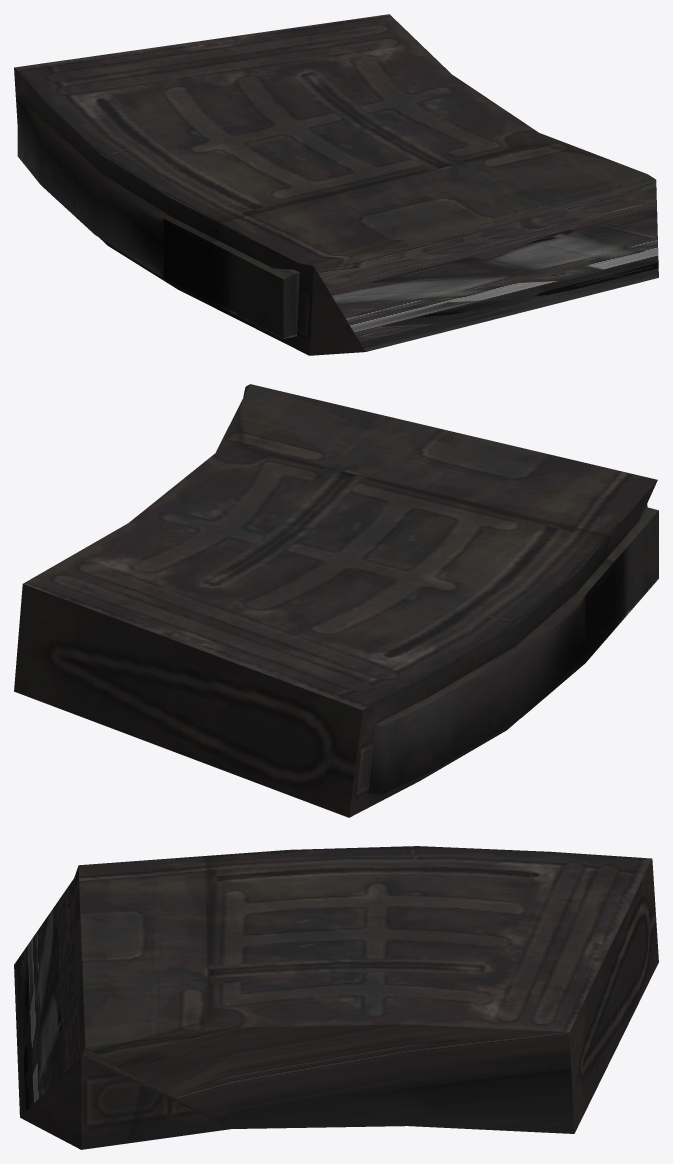
Rendered from weapon_dragunov_clip_LOD0.obj.
3 views of the same model, one above another, from view 1: azimuth 30°, elevation 25°; view 2: azimuth 150°, elevation 25°; view 3: azimuth 270°, elevation 25° (orthographic). The views are drawn at different scales.
Visible parts, largest first — view 1: mtl_weapon_dragunov; view 2: mtl_weapon_dragunov; view 3: mtl_weapon_dragunov.
Part boxes in pixels (left/top/right/bottom): mtl_weapon_dragunov: left=14, top=14, right=658, bottom=355; mtl_weapon_dragunov: left=14, top=384, right=658, bottom=817; mtl_weapon_dragunov: left=14, top=846, right=658, bottom=1149.
Size of the model in its own units: 8.79 by 1.96 by 11.55.
1 material, 1 textured.
